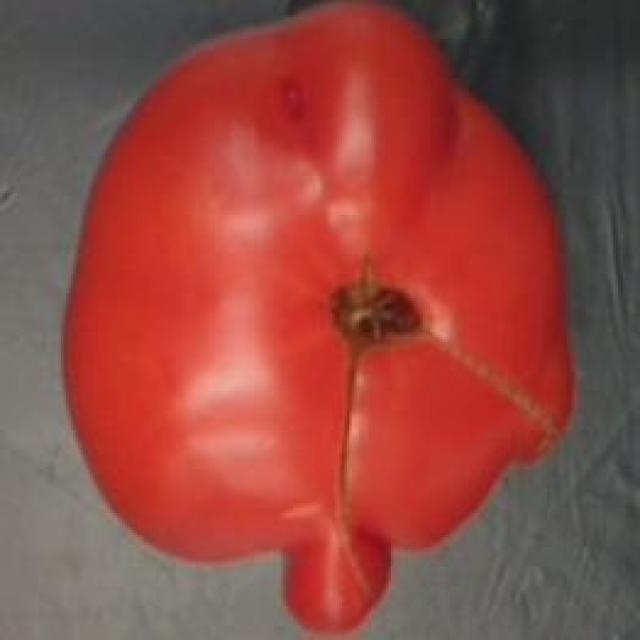overripe tomato: (51, 0, 606, 640)
